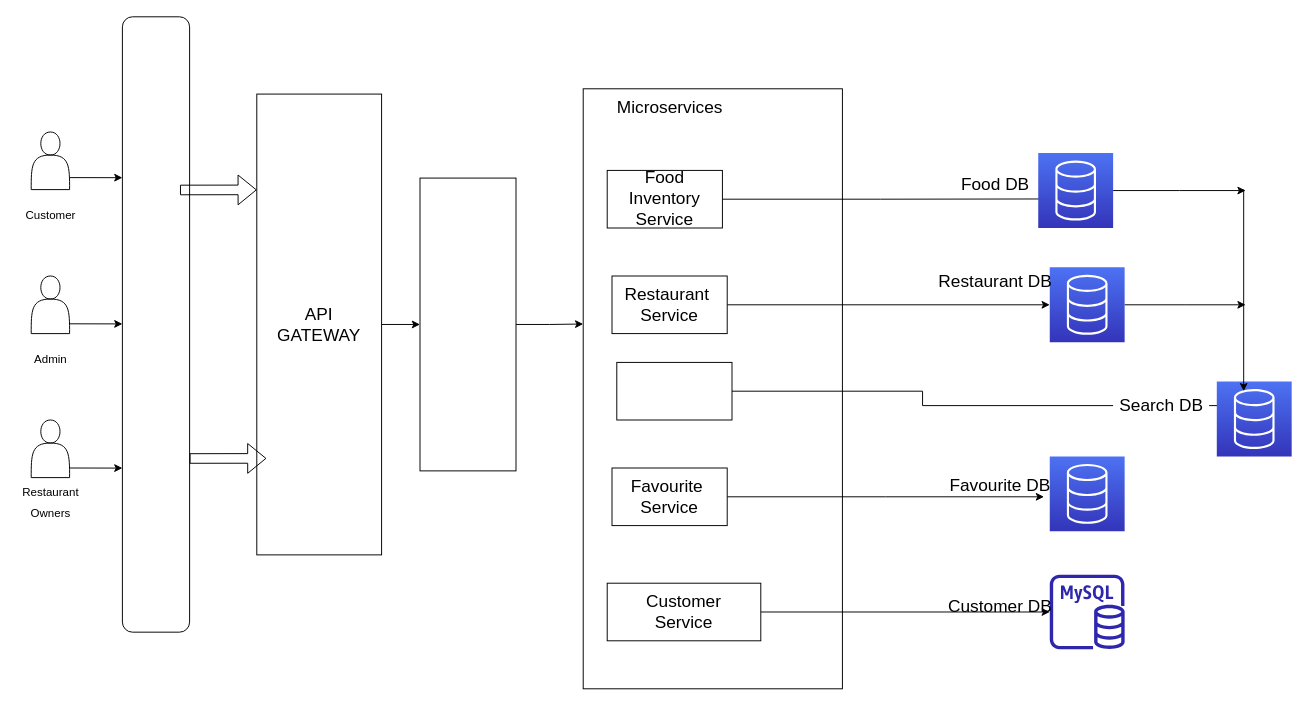
The diagram is 1308 pixels wide and 706 high, and some of its shapes have lost their labels. The box of each missing label's shape, as (x1, y1, x2, y2) in pixels:
EUREKA SERVER: (419, 177, 516, 471)
Search Service: (616, 361, 732, 420)
User Interface Layer: (121, 16, 190, 632)
